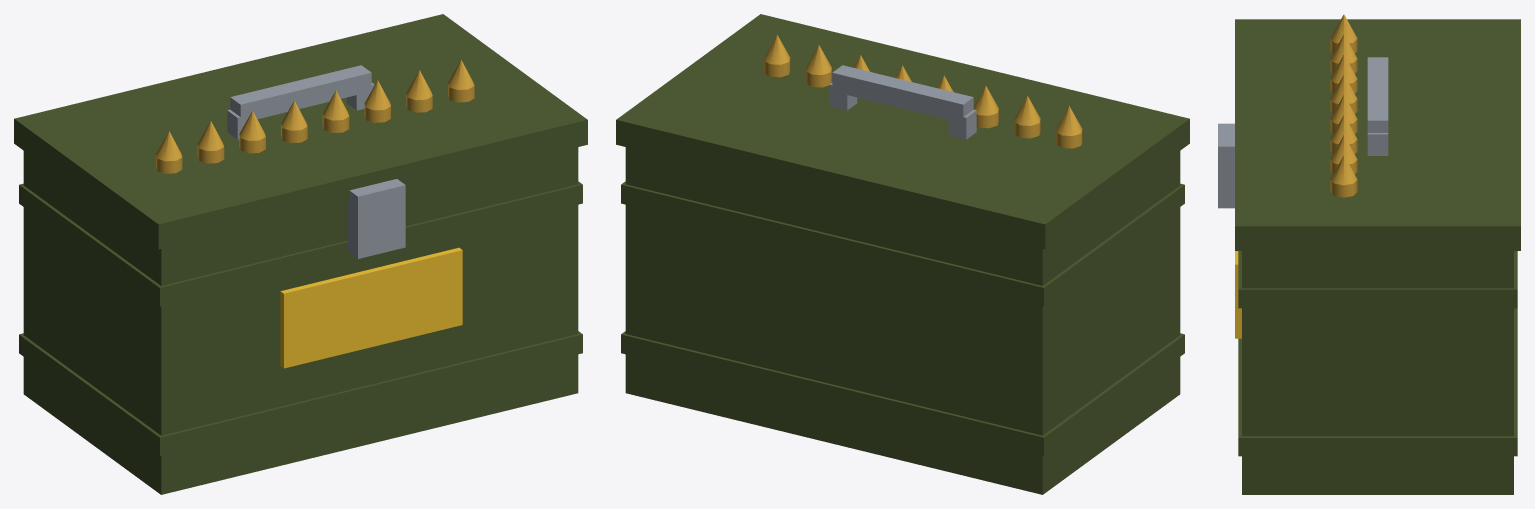
File: AmmoBox.glb
3 renders of one model, left to right at view 1: azimuth 30°, elevation 25°; view 2: azimuth 150°, elevation 25°; view 3: azimuth 270°, elevation 25°, orthographic.
Visible parts, largest first — view 1: Body, LidPlate, Ribs, Label, Bullets, Handle, Latch; view 2: Body, LidPlate, Ribs, Handle, Bullets; view 3: LidPlate, Body, Ribs, Bullets, Handle, Latch, Label.
Part boxes in pixels (x1,y1,x2,y2): Body: (23,147,578,494); LidPlate: (14,14,587,249); Ribs: (19,181,582,456); Label: (280,247,462,368); Bullets: (156,60,474,173); Handle: (227,65,374,139); Latch: (347,179,405,258); Body: (625,147,1180,494); LidPlate: (616,14,1189,249); Ribs: (621,181,1184,456); Handle: (829,65,976,139); Bullets: (764,34,1082,148); LidPlate: (1235,19,1520,250); Body: (1242,251,1513,494); Ribs: (1238,251,1517,456); Bullets: (1330,14,1357,197); Handle: (1367,57,1388,155); Latch: (1218,123,1234,208); Label: (1235,251,1241,338).
Bounding box in the file's own units: 0.72 × 0.5 × 0.445.
